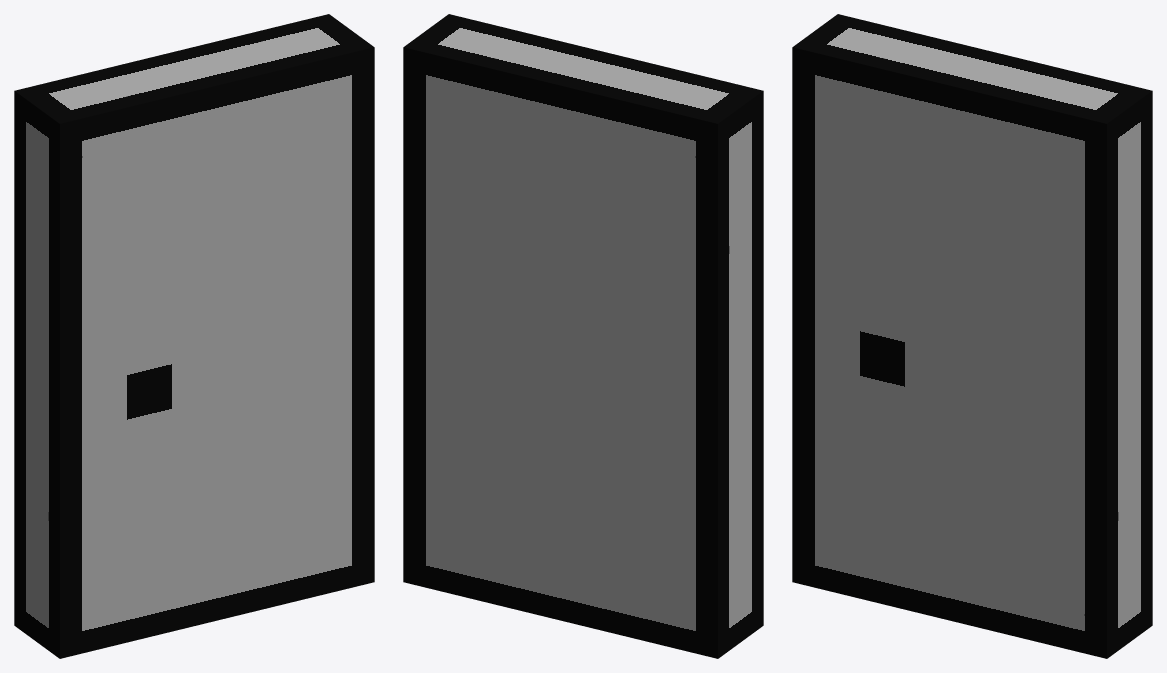
The model's file is door.gltf.
3 renders of one model, left to right at view 1: azimuth 30°, elevation 25°; view 2: azimuth 150°, elevation 25°; view 3: azimuth 330°, elevation 25°, orthographic.
Visible parts, largest first — view 1: cuboid-col; view 2: cuboid-col; view 3: cuboid-col.
Part boxes in pixels (x1,y1,x2,y2): cuboid-col: (14,14,374,658); cuboid-col: (403,14,763,658); cuboid-col: (792,14,1152,658).
Bounding box in the file's own units: 1 × 1.62 × 0.25.
1 material, 1 textured.
